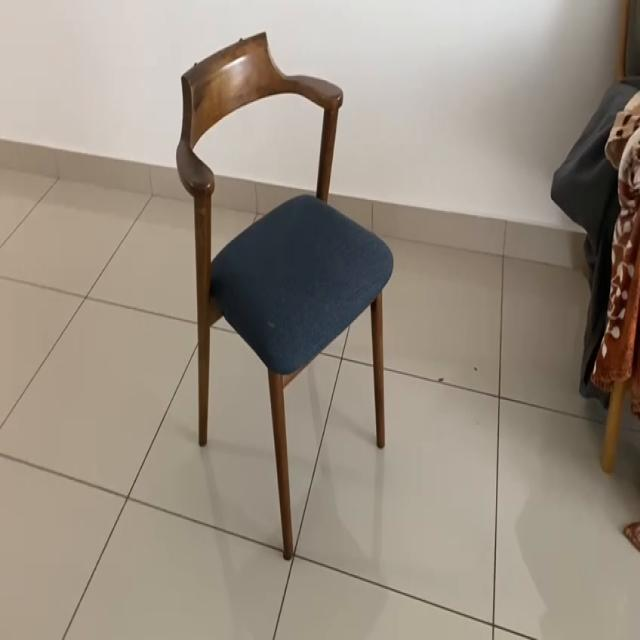Chair: (170, 32, 412, 566)
